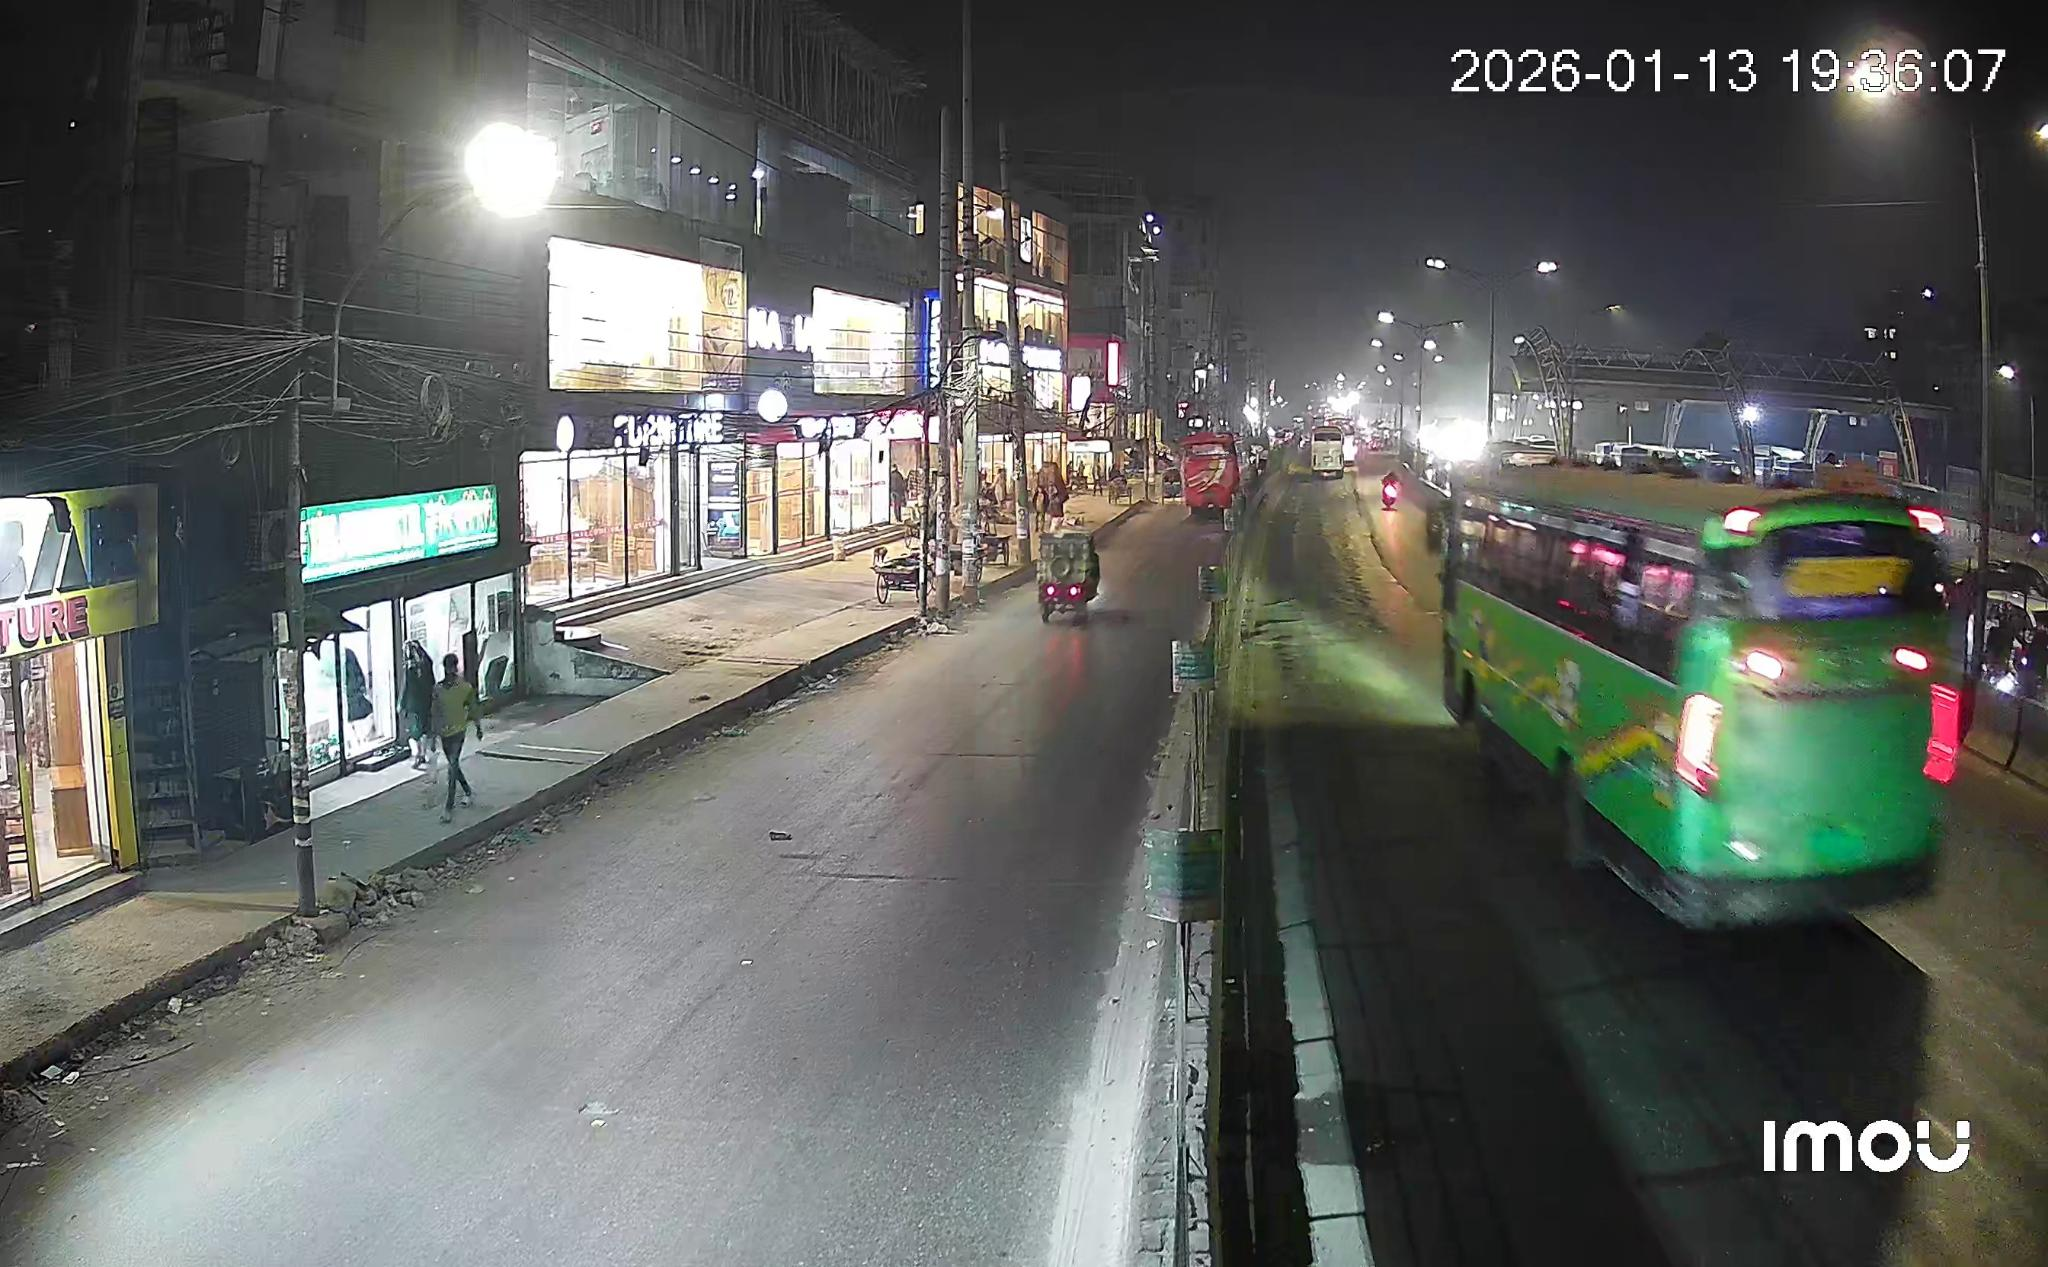Auto Rickshaw: (1034, 528, 1102, 622)
Bus: (1441, 470, 1969, 926), (1181, 433, 1243, 516), (1311, 427, 1356, 474)
